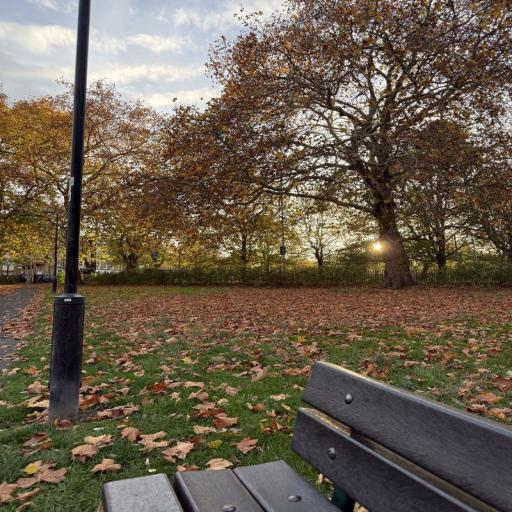elevator: (45, 0, 91, 422)
trash_bin: (101, 361, 512, 512)
